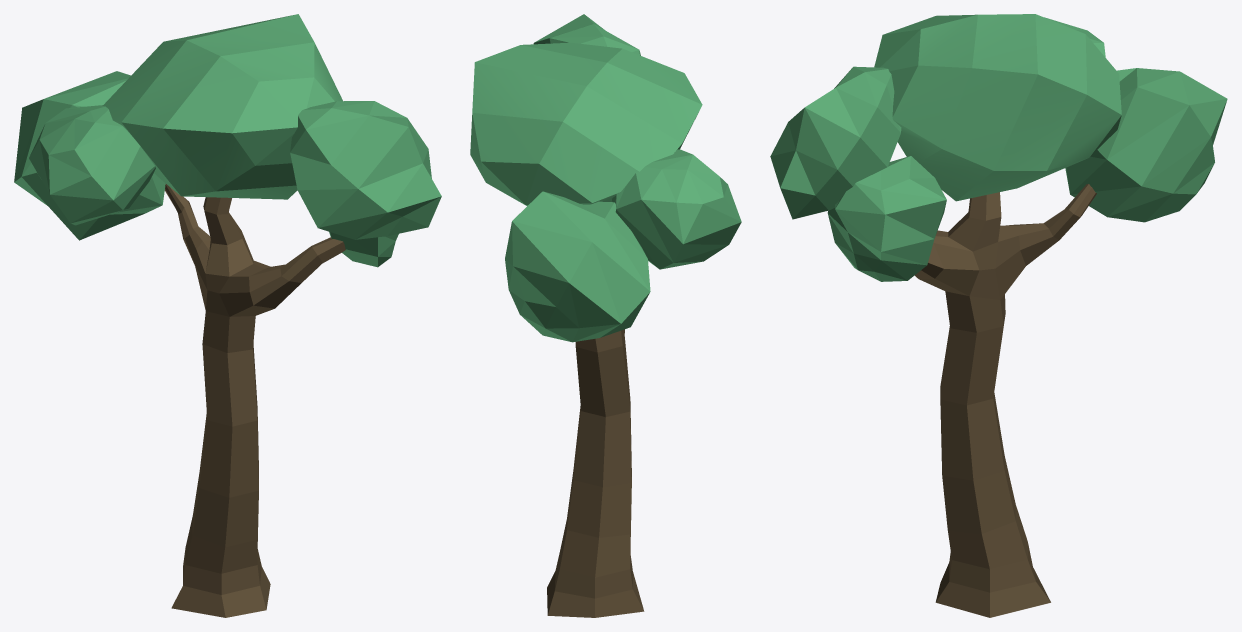
The model's file is GenericTree2.fbx.
3 renders of one model, left to right at view 1: azimuth 30°, elevation 25°; view 2: azimuth 150°, elevation 25°; view 3: azimuth 270°, elevation 25°, orthographic. The views are drawn at different scales.
Visible parts, largest first — view 1: pasted__pSphere3, pCylinder1, pasted__pSphere4, pasted__pSphere2, pSphere1, pasted__pSphere1; view 2: pasted__pSphere3, pCylinder1, pSphere1, pasted__pSphere2, pasted__pSphere4; view 3: pasted__pSphere3, pCylinder1, pSphere1, pasted__pSphere4, pasted__pSphere1.
Boxes of the visible parts, <box> form: pasted__pSphere3: <box>103,14,342,199</box>; pCylinder1: <box>164,184,345,617</box>; pasted__pSphere4: <box>290,101,441,239</box>; pasted__pSphere2: <box>29,105,155,225</box>; pSphere1: <box>14,71,165,240</box>; pasted__pSphere1: <box>329,232,398,267</box>; pasted__pSphere3: <box>470,42,702,205</box>; pCylinder1: <box>547,329,644,617</box>; pSphere1: <box>505,191,650,342</box>; pasted__pSphere2: <box>612,149,741,269</box>; pasted__pSphere4: <box>533,14,640,55</box>; pasted__pSphere3: <box>874,14,1121,201</box>; pCylinder1: <box>915,184,1096,617</box>; pSphere1: <box>1065,68,1227,222</box>; pasted__pSphere4: <box>770,66,901,219</box>; pasted__pSphere1: <box>827,156,946,281</box>.
Bounding box in the file's own units: 6.23 × 10.28 × 7.42.
